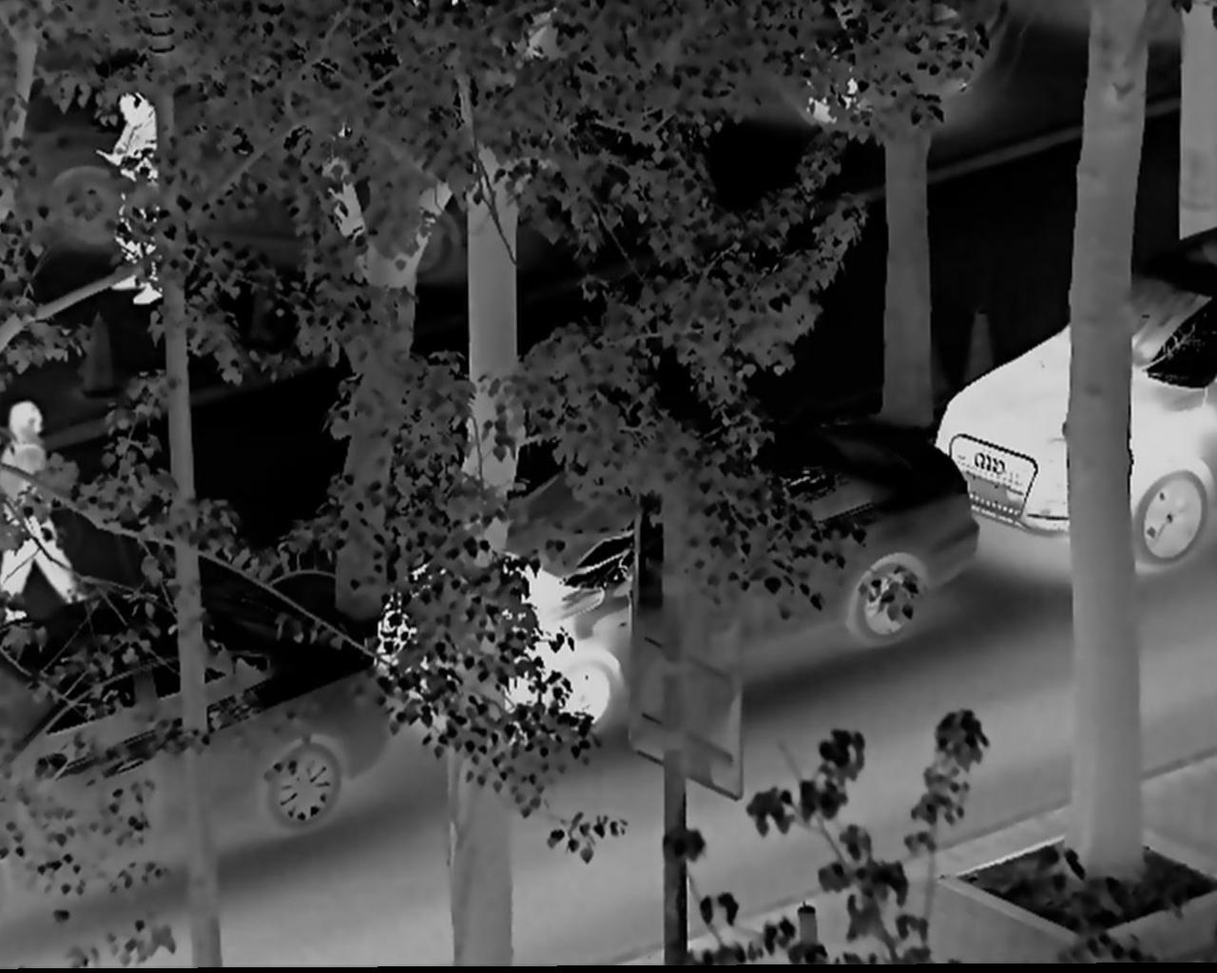person: (95, 85, 169, 304)
